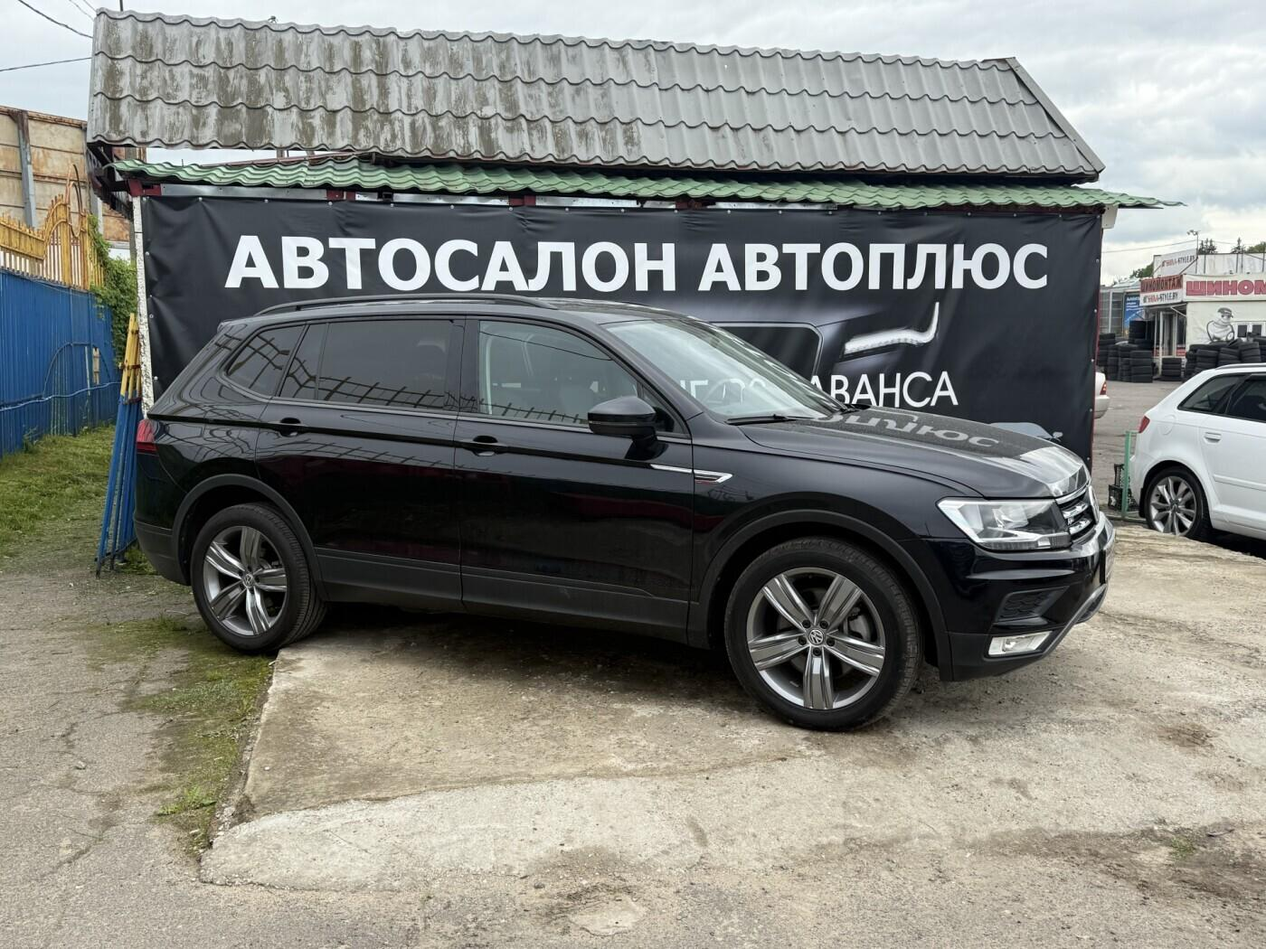Tiguan_2016-2021: (129, 298, 1117, 732)
